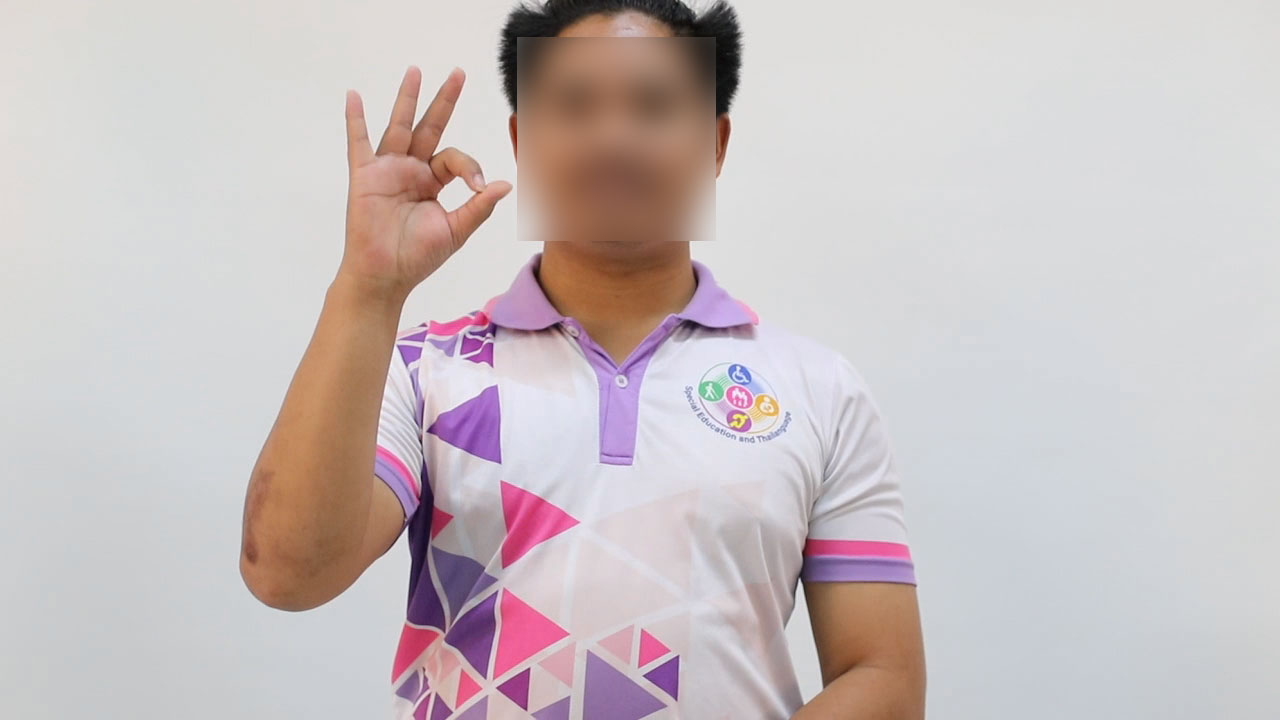for: (308, 51, 522, 312)
